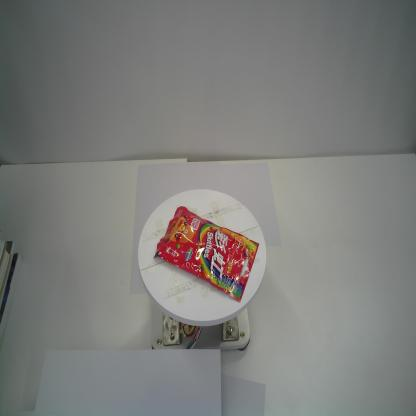Candy: (152, 205, 260, 304)
